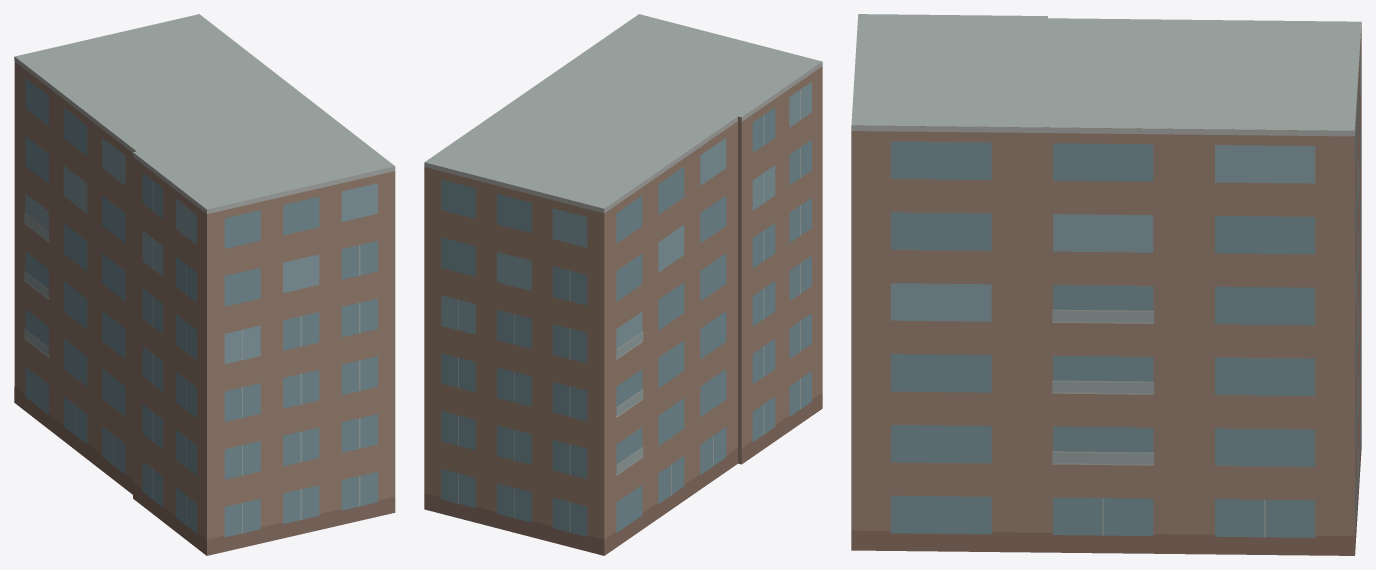
Rendered from survey-upis-32654036.glb.
3 views of the same model, side by side, from view 1: azimuth 30°, elevation 25°; view 2: azimuth 150°, elevation 25°; view 3: azimuth 270°, elevation 25° (orthographic). The views are drawn at different scales.
Visible parts, largest first — view 1: survey-upis-32654036.tmp; view 2: survey-upis-32654036.tmp; view 3: survey-upis-32654036.tmp.
Boxes of the visible parts, x1=… form: survey-upis-32654036.tmp: x1=14, y1=14, x2=395, y2=555; survey-upis-32654036.tmp: x1=424, y1=14, x2=822, y2=555; survey-upis-32654036.tmp: x1=851, y1=14, x2=1361, y2=555.
Bounding box in the file's own units: 10.79 × 18.3 × 19.91.
